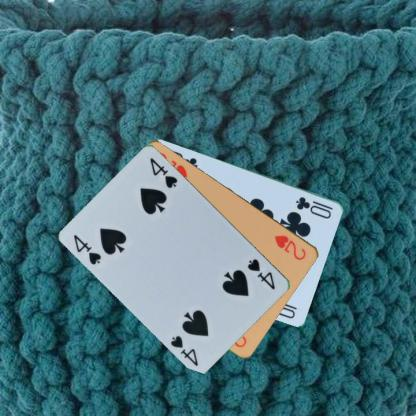10c: (293, 194, 334, 220)
2h: (272, 232, 308, 262)
4s: (245, 256, 277, 291), (71, 232, 103, 266)
